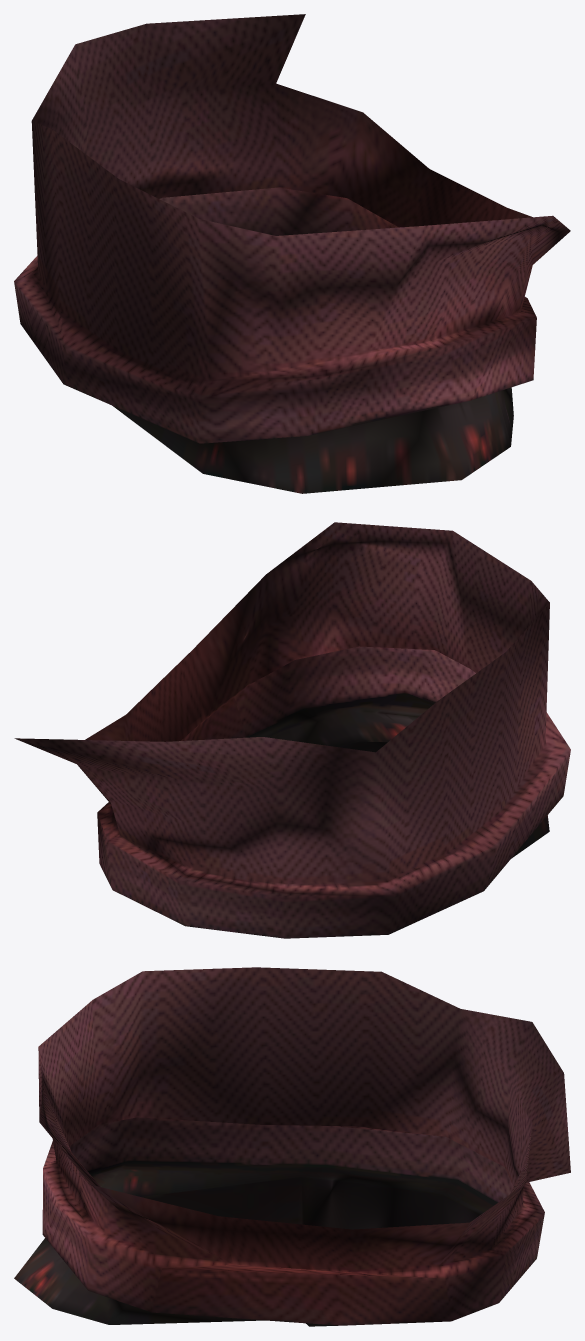
File: PiernaDer_F.obj
The picture shows the model from 3 angles, top to bottom: view 1: azimuth 30°, elevation 25°; view 2: azimuth 150°, elevation 25°; view 3: azimuth 270°, elevation 25°; orthographic projection. The views are drawn at different scales.
Parts seen in each view (by area): view 1: PiernaDer_F; view 2: PiernaDer_F; view 3: PiernaDer_F.
Boxes of the visible parts, left/top/right/bottom form: PiernaDer_F: left=14, top=14, right=570, bottom=493; PiernaDer_F: left=14, top=522, right=570, bottom=938; PiernaDer_F: left=14, top=967, right=570, bottom=1326.
Bounding box in the file's own units: 0.2915 × 0.1834 × 0.4095.
